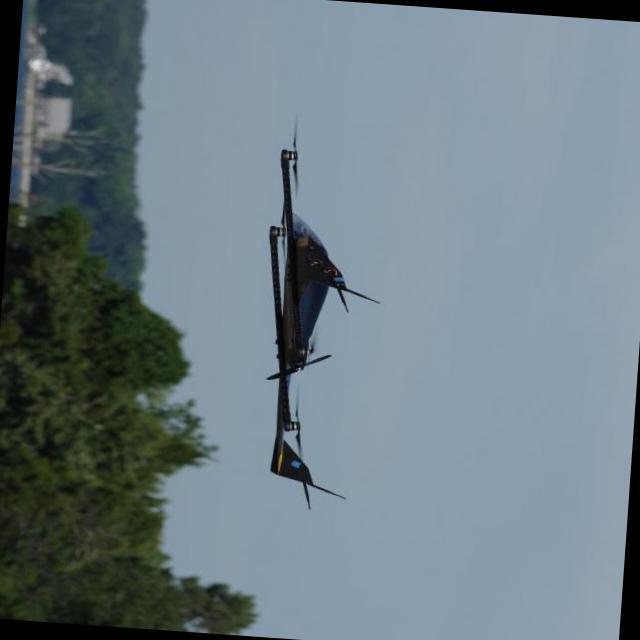UAV: (190, 152, 382, 502)
